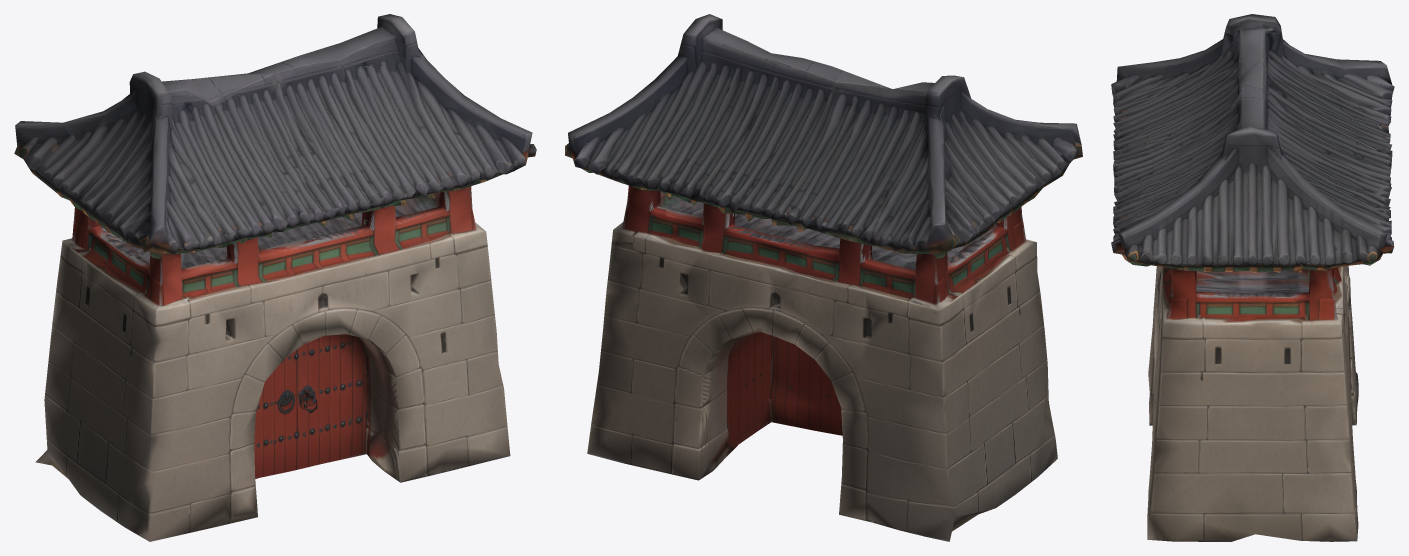
The model's file is gate.glb.
The picture shows the model from 3 angles, left to right: view 1: azimuth 30°, elevation 25°; view 2: azimuth 150°, elevation 25°; view 3: azimuth 270°, elevation 25°; orthographic projection. The views are drawn at different scales.
Parts seen in each view (by area): view 1: texture_mapping; view 2: texture_mapping; view 3: texture_mapping.
Boxes of the visible parts, box(x1,y1,x2,y2) form: texture_mapping: box(14, 14, 536, 541); texture_mapping: box(565, 14, 1082, 541); texture_mapping: box(1111, 14, 1394, 541).
Bounding box in the file's own units: 0.9948 × 0.9984 × 0.6637.
1 material, 1 textured.
